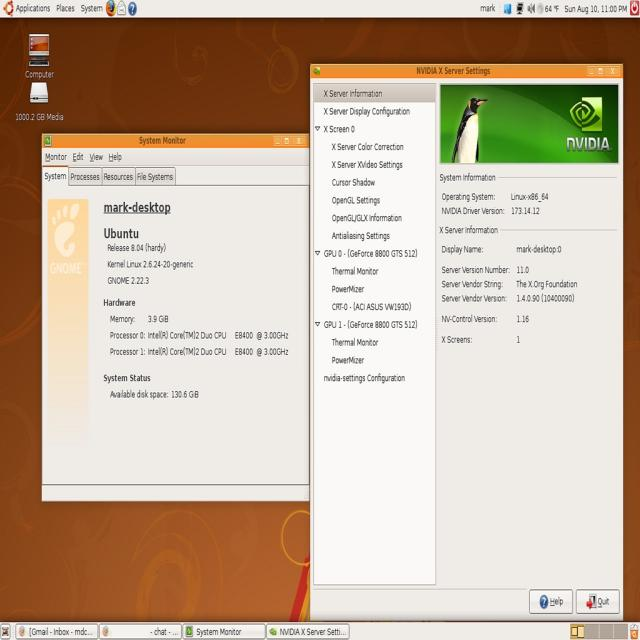nvidia: (570, 97, 604, 132)
